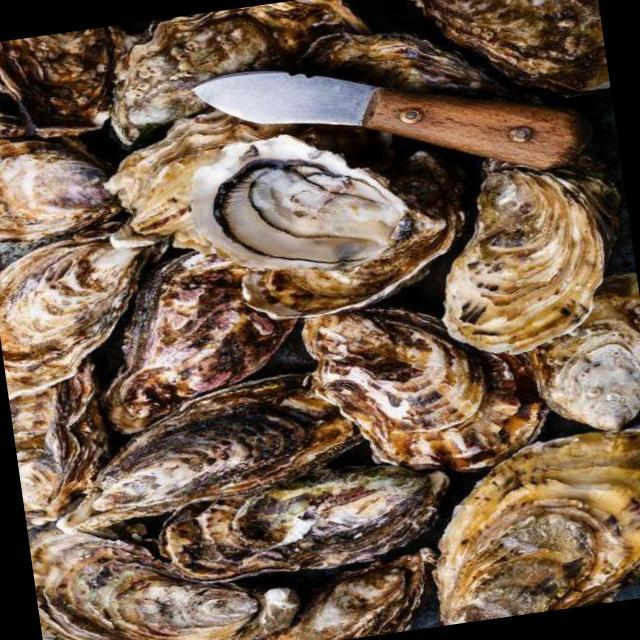Oyster- Indeterminate: (35, 366, 358, 541), (295, 282, 562, 492), (416, 137, 640, 361), (87, 237, 316, 439), (413, 426, 640, 627), (153, 446, 469, 590), (99, 0, 371, 130), (224, 190, 478, 329), (26, 496, 268, 640), (0, 229, 168, 401), (399, 0, 610, 114), (517, 272, 640, 440), (0, 85, 118, 251), (5, 362, 118, 526), (0, 25, 130, 146)
Oyster-Closed: (247, 550, 443, 640)
Oyster-Open: (169, 111, 425, 290)
